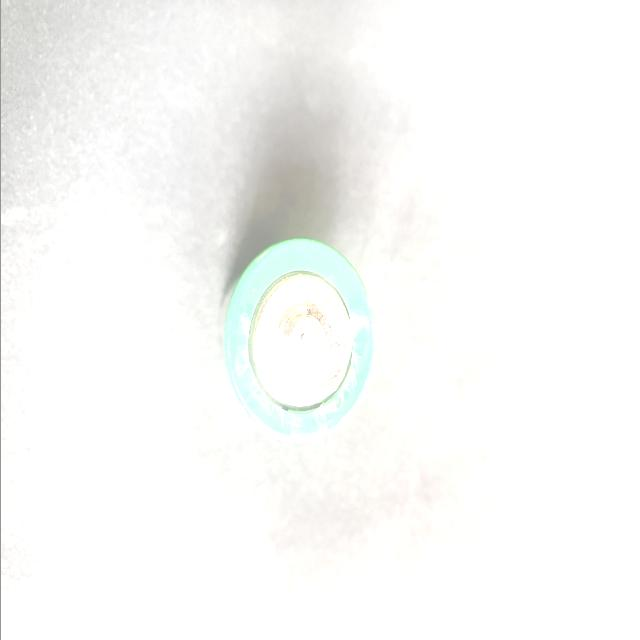AA: (223, 237, 376, 443)
